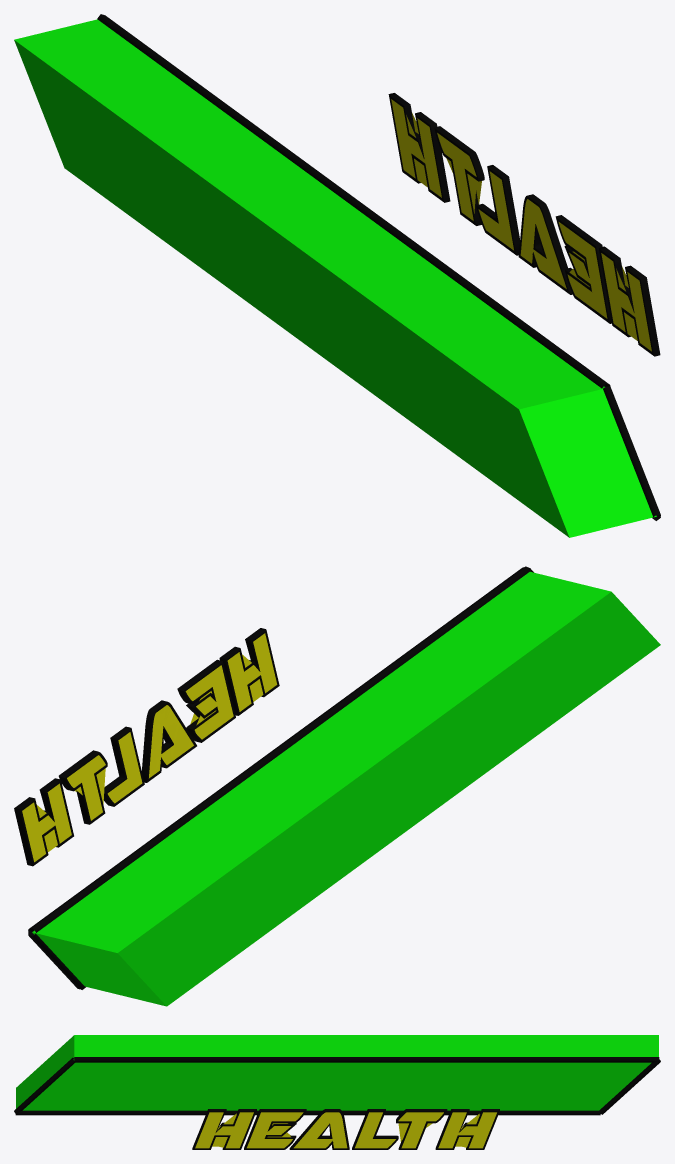
The model's file is Health Bar FBX.fbx.
3 views of the same model, one above another, from view 1: azimuth 30°, elevation 25°; view 2: azimuth 150°, elevation 25°; view 3: azimuth 270°, elevation 25° (orthographic). The views are drawn at different scales.
Visible parts, largest first — view 1: Bar, polySurface14, polySurface8, polySurface6; view 2: Bar, polySurface14, polySurface8; view 3: Bar, polySurface14, polySurface8, polySurface12, polySurface6, polySurface10.
Boxes of the visible parts, bbox=[...] form: Bar: bbox=[14, 19, 656, 537]; polySurface14: bbox=[388, 93, 660, 356]; polySurface8: bbox=[97, 14, 610, 388]; polySurface6: bbox=[603, 386, 660, 518]; Bar: bbox=[32, 571, 660, 1006]; polySurface14: bbox=[14, 628, 279, 866]; polySurface8: bbox=[28, 566, 529, 936]; Bar: bbox=[16, 1035, 658, 1110]; polySurface14: bbox=[192, 1109, 499, 1149]; polySurface8: bbox=[74, 1057, 659, 1062]; polySurface12: bbox=[15, 1110, 600, 1115]; polySurface6: bbox=[14, 1057, 74, 1114]; polySurface10: bbox=[599, 1059, 660, 1114].
Size of the model in its own units: 2.79 by 1.1 by 11.06.
